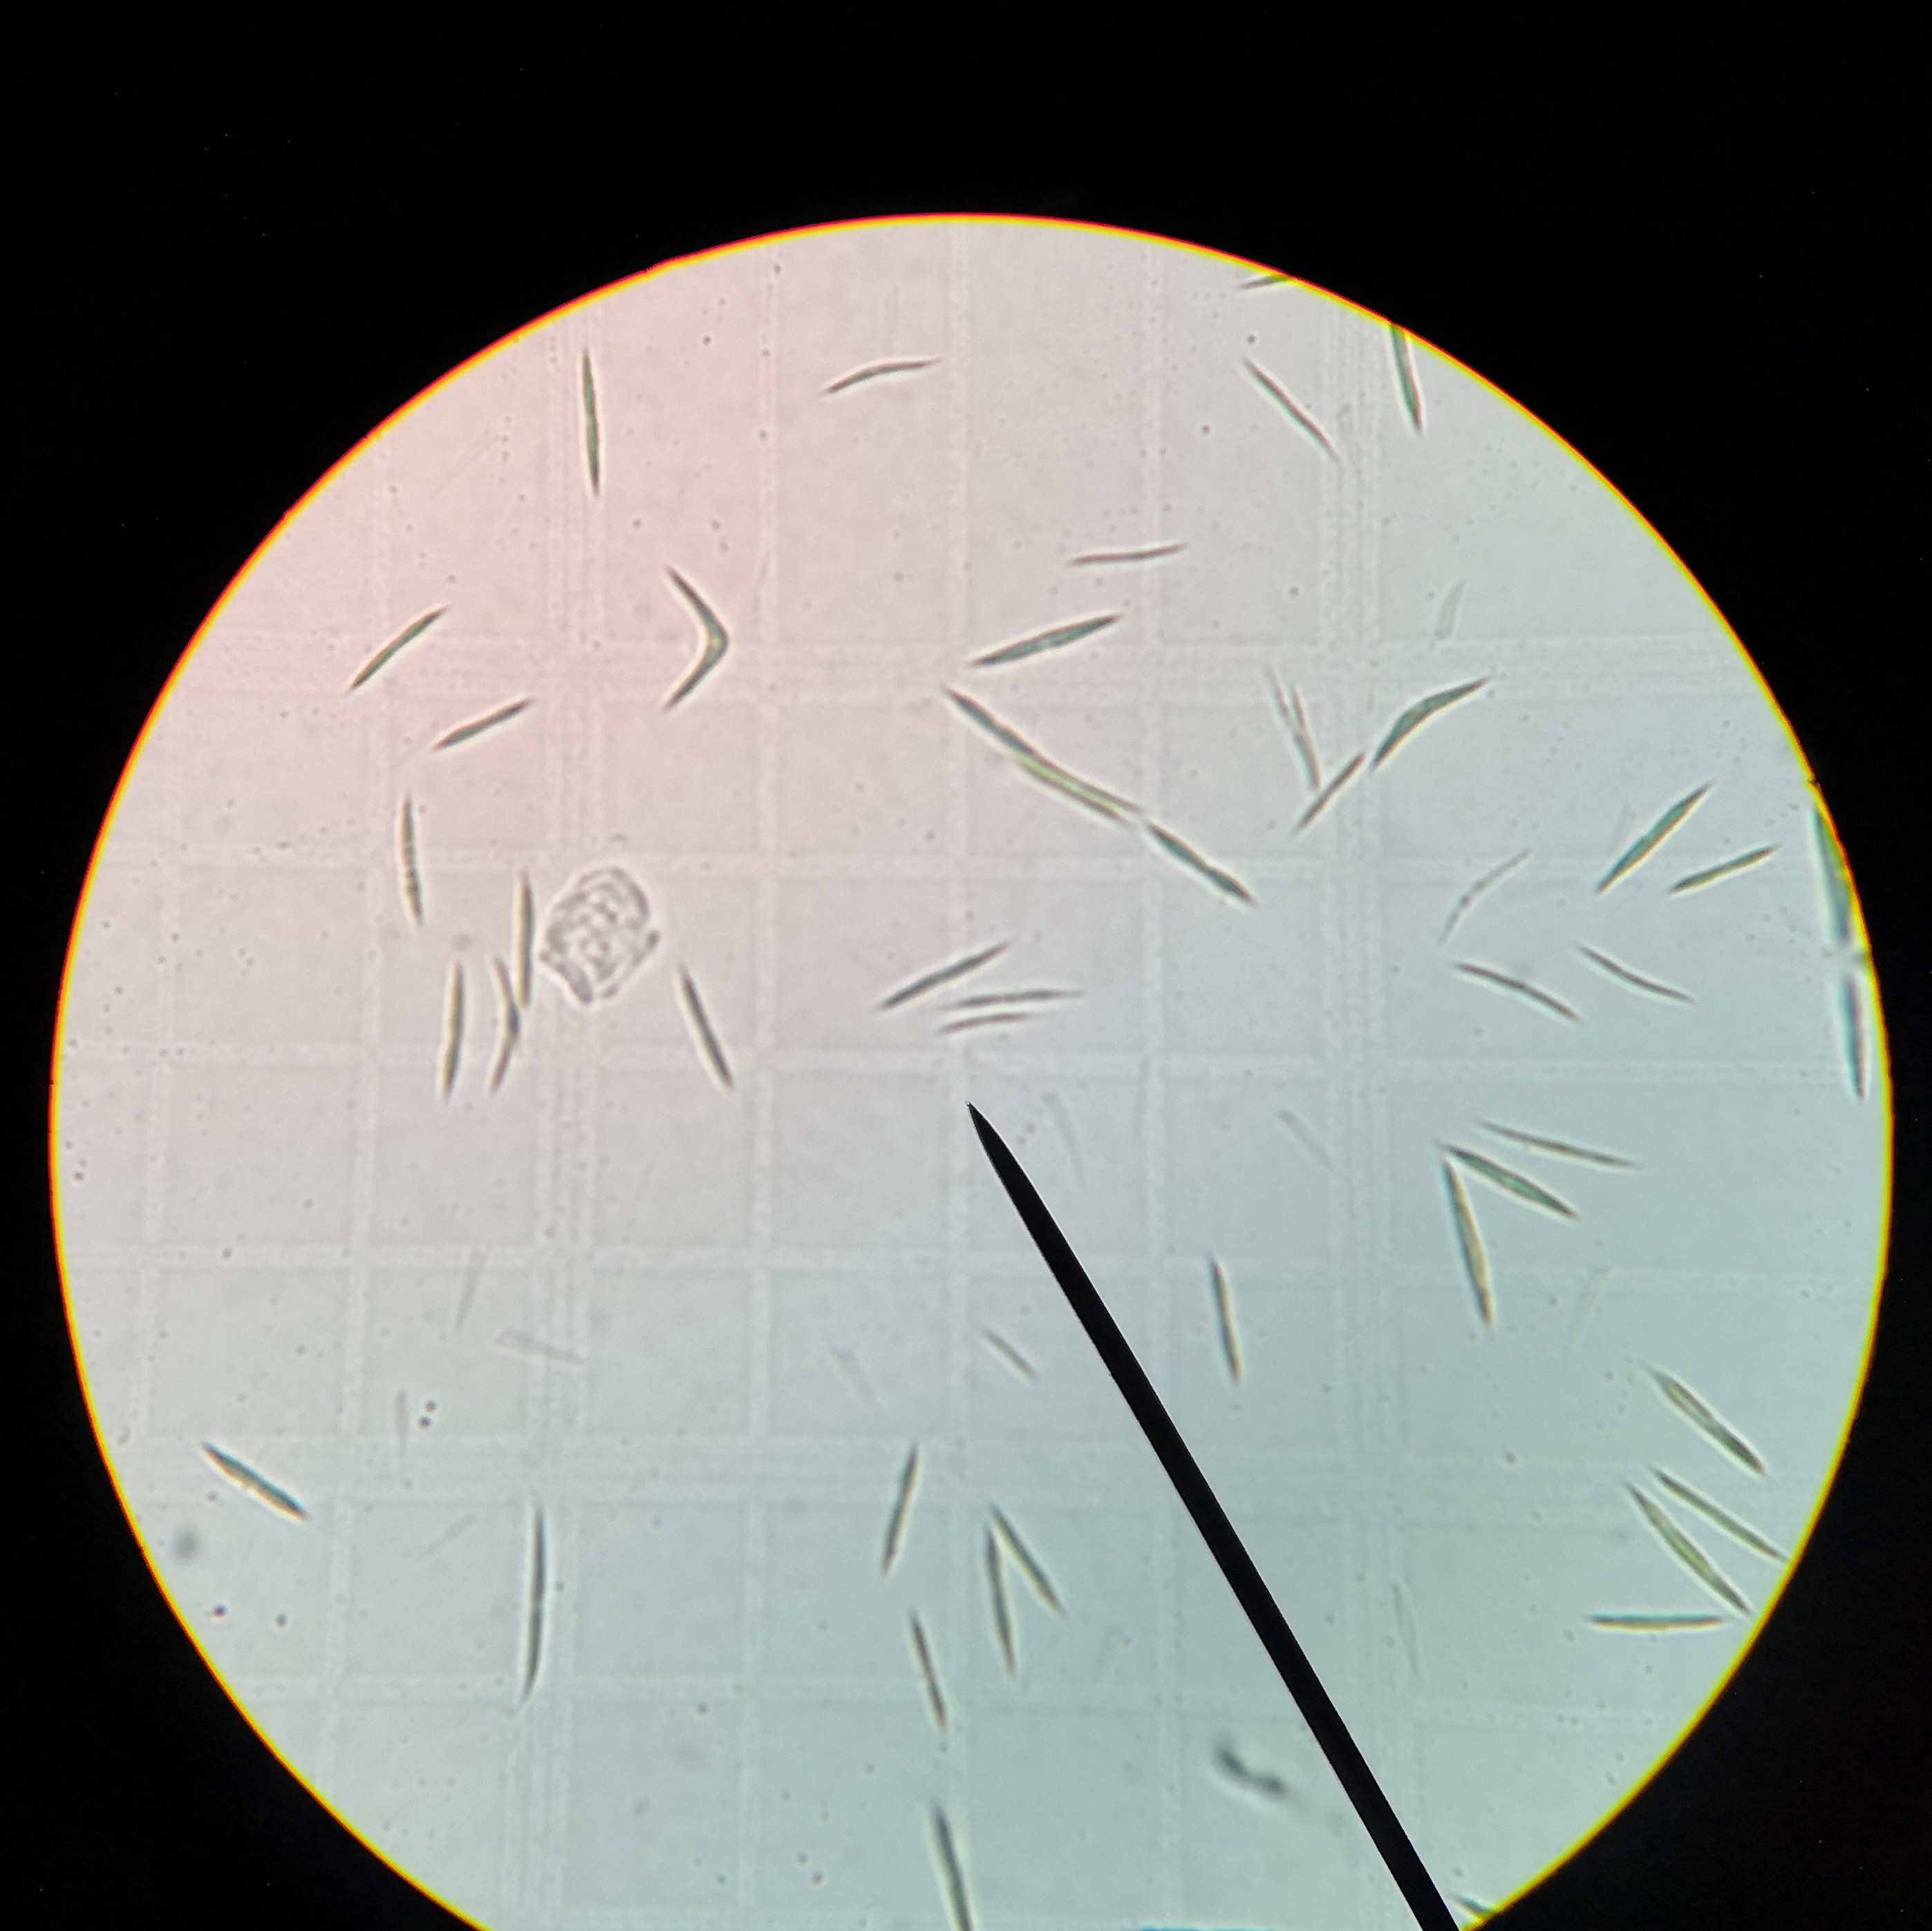Microalgae: (940, 691, 1144, 805), (1596, 1492, 1746, 1618), (1651, 1363, 1792, 1482), (658, 561, 744, 713), (1656, 1475, 1792, 1568), (507, 1505, 574, 1691), (1444, 1139, 1586, 1224), (1605, 778, 1704, 891), (193, 1438, 315, 1523), (1375, 684, 1487, 771), (859, 925, 999, 992), (1149, 828, 1257, 914), (1488, 1123, 1640, 1179), (970, 614, 1128, 667), (1577, 943, 1702, 1008), (348, 608, 451, 688), (1434, 1167, 1488, 1314), (983, 1505, 1062, 1606), (1250, 366, 1329, 467), (422, 691, 536, 762), (1455, 958, 1577, 1024), (1289, 752, 1358, 856), (1257, 681, 1319, 785), (1444, 856, 1529, 932), (1197, 1252, 1246, 1379), (582, 345, 622, 499), (677, 967, 728, 1089), (387, 801, 435, 925), (924, 1807, 972, 1931), (1582, 1607, 1725, 1641), (873, 1446, 914, 1561), (817, 352, 935, 391), (909, 1611, 947, 1719), (924, 1010, 1029, 1049), (981, 1531, 1009, 1675), (970, 1324, 1039, 1383), (514, 872, 541, 1004), (445, 964, 472, 1095), (1071, 532, 1193, 561), (1384, 322, 1411, 433), (495, 953, 514, 1095), (1234, 263, 1290, 306), (955, 992, 1071, 1010)
